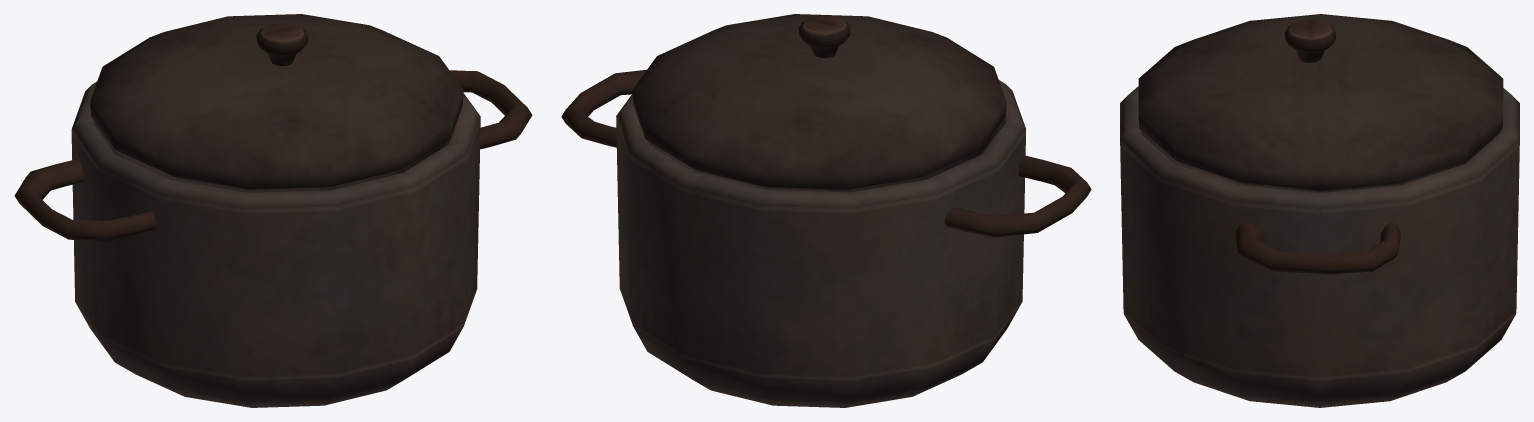
The model's file is Pot_Lid.fbx.
The picture shows the model from 3 angles, left to right: view 1: azimuth 30°, elevation 25°; view 2: azimuth 150°, elevation 25°; view 3: azimuth 270°, elevation 25°; orthographic projection.
Visible parts, largest first — view 1: Pot2, Lid_Balltop, PotHandle2, PotHandle3; view 2: Pot2, Lid_Balltop, PotHandle2, PotHandle3; view 3: Pot2, Lid_Balltop, PotHandle3.
Part boxes in pixels (box(x1,y1,x2,y2)): Pot2: box(71, 81, 480, 407); Lid_Balltop: box(90, 14, 463, 190); PotHandle2: box(14, 159, 156, 241); PotHandle3: box(450, 70, 532, 149); Pot2: box(616, 80, 1025, 407); Lid_Balltop: box(632, 14, 1006, 190); PotHandle2: box(944, 155, 1091, 237); PotHandle3: box(561, 69, 646, 147); Pot2: box(1120, 86, 1519, 407); Lid_Balltop: box(1138, 14, 1503, 191); PotHandle3: box(1235, 222, 1400, 274).
Size of the model in its own units: 14.48 by 8.96 by 10.39.
